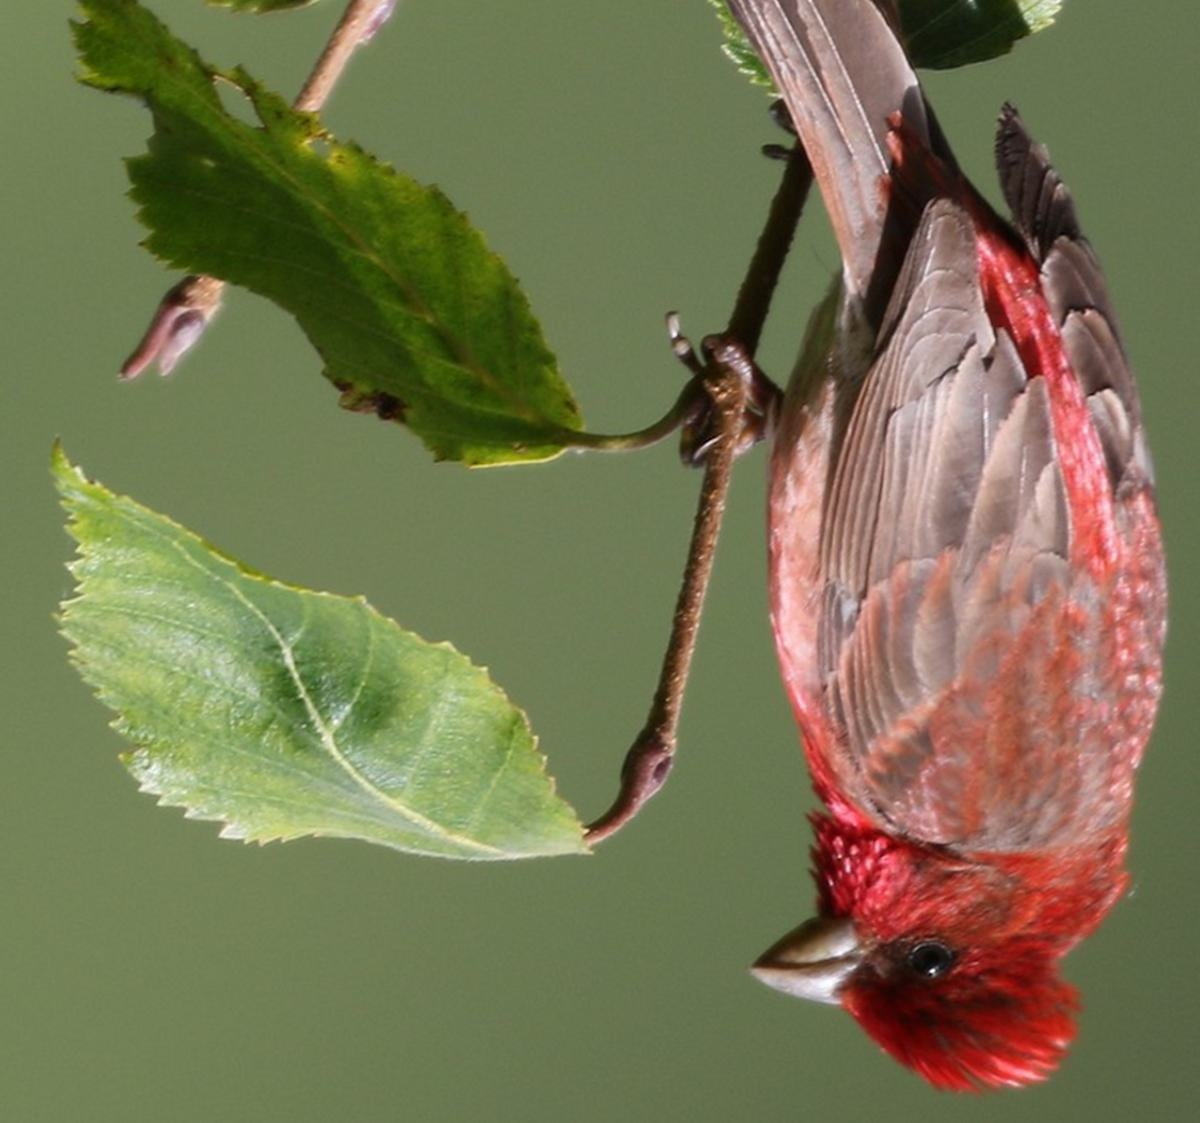rosefinch: (744, 26, 1089, 1086)
